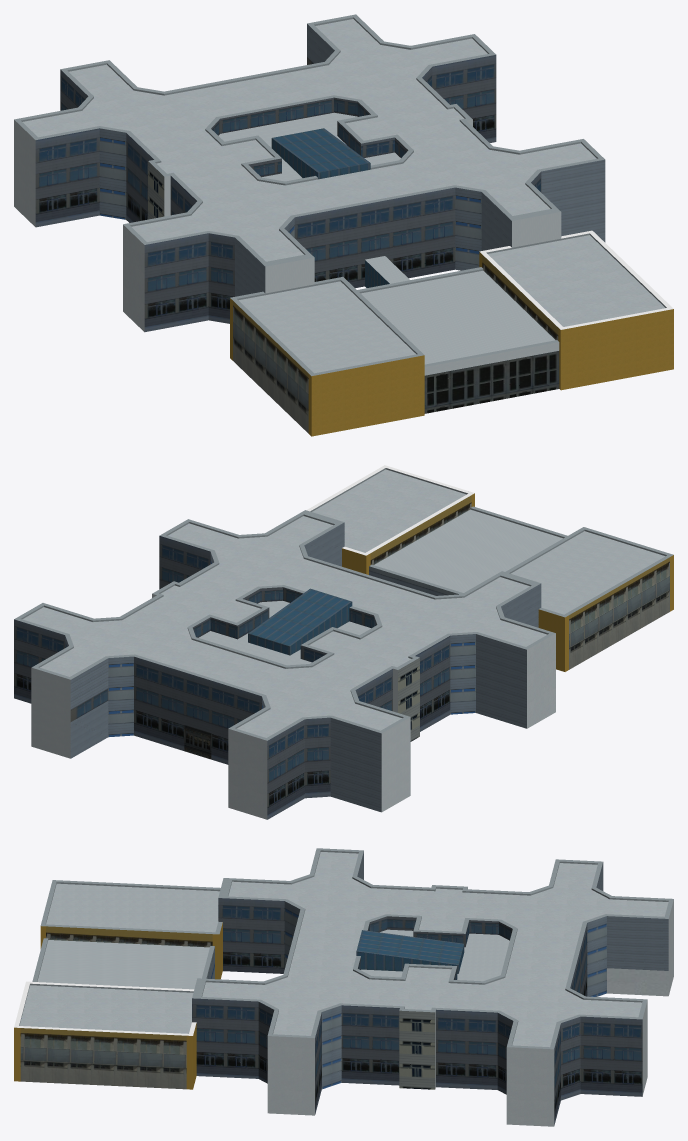
Rendered from grg15-gebaeude.glb.
3 renders of one model, top to bottom at view 1: azimuth 30°, elevation 25°; view 2: azimuth 150°, elevation 25°; view 3: azimuth 270°, elevation 25°, orthographic. The views are drawn at different scales.
Parts seen in each view (by area): view 1: mesh_7_ROOT_Layer0_194_202_205_ss, mesh_4_ROOT_Layer0_96_108_118_ss, mesh_2_ROOT_Layer0_190_162_85_ss, mesh_9_ROOT_Layer0_171_180_184_ss, mesh_0_ROOT_Layer0_208_216_218_ss, mesh_5_ROOT_Layer0_143_155_165_ss, mesh_13_ROOT_Layer0_142_141_125_ss, mesh_14_ROOT_Layer0_66_71_70_ss, mesh_6_ROOT_Layer0_136_151_162_ss, mesh_8_ROOT_Layer0_87_118_137_ss, mesh_1_ROOT_Layer0_255_255_255_ss, mesh_3_ROOT_Layer0_136_143_141_ss; view 2: mesh_7_ROOT_Layer0_194_202_205_ss, mesh_4_ROOT_Layer0_96_108_118_ss, mesh_5_ROOT_Layer0_143_155_165_ss, mesh_9_ROOT_Layer0_171_180_184_ss, mesh_0_ROOT_Layer0_208_216_218_ss, mesh_13_ROOT_Layer0_142_141_125_ss, mesh_6_ROOT_Layer0_136_151_162_ss, mesh_8_ROOT_Layer0_87_118_137_ss, mesh_2_ROOT_Layer0_190_162_85_ss, mesh_3_ROOT_Layer0_136_143_141_ss, mesh_1_ROOT_Layer0_255_255_255_ss, mesh_11_ROOT_Layer0_76_79_77_ss; view 3: mesh_7_ROOT_Layer0_194_202_205_ss, mesh_4_ROOT_Layer0_96_108_118_ss, mesh_13_ROOT_Layer0_142_141_125_ss, mesh_9_ROOT_Layer0_171_180_184_ss, mesh_0_ROOT_Layer0_208_216_218_ss, mesh_6_ROOT_Layer0_136_151_162_ss, mesh_5_ROOT_Layer0_143_155_165_ss, mesh_8_ROOT_Layer0_87_118_137_ss, mesh_3_ROOT_Layer0_136_143_141_ss, mesh_2_ROOT_Layer0_190_162_85_ss, mesh_1_ROOT_Layer0_255_255_255_ss.
Part boxes in pixels (<box>): mesh_7_ROOT_Layer0_194_202_205_ss: <box>22,19,665,373</box>; mesh_4_ROOT_Layer0_96_108_118_ss: <box>35,55,541,331</box>; mesh_2_ROOT_Layer0_190_162_85_ss: <box>230,252,673,436</box>; mesh_9_ROOT_Layer0_171_180_184_ss: <box>14,14,666,376</box>; mesh_0_ROOT_Layer0_208_216_218_ss: <box>14,119,561,375</box>; mesh_5_ROOT_Layer0_143_155_165_ss: <box>235,24,605,296</box>; mesh_13_ROOT_Layer0_142_141_125_ss: <box>233,255,558,433</box>; mesh_14_ROOT_Layer0_66_71_70_ss: <box>424,351,559,413</box>; mesh_6_ROOT_Layer0_136_151_162_ss: <box>99,128,481,270</box>; mesh_8_ROOT_Layer0_87_118_137_ss: <box>271,128,389,287</box>; mesh_1_ROOT_Layer0_255_255_255_ss: <box>479,230,673,329</box>; mesh_3_ROOT_Layer0_136_143_141_ss: <box>148,161,164,219</box>; mesh_7_ROOT_Layer0_194_202_205_ss: <box>22,469,665,737</box>; mesh_4_ROOT_Layer0_96_108_118_ss: <box>14,536,450,819</box>; mesh_5_ROOT_Layer0_143_155_165_ss: <box>70,522,541,812</box>; mesh_9_ROOT_Layer0_171_180_184_ss: <box>14,468,673,740</box>; mesh_0_ROOT_Layer0_208_216_218_ss: <box>31,594,555,819</box>; mesh_13_ROOT_Layer0_142_141_125_ss: <box>370,495,669,669</box>; mesh_6_ROOT_Layer0_136_151_162_ss: <box>108,552,475,737</box>; mesh_8_ROOT_Layer0_87_118_137_ss: <box>248,588,352,655</box>; mesh_2_ROOT_Layer0_190_162_85_ss: <box>342,493,673,671</box>; mesh_3_ROOT_Layer0_136_143_141_ss: <box>398,658,419,741</box>; mesh_1_ROOT_Layer0_255_255_255_ss: <box>306,465,474,555</box>; mesh_11_ROOT_Layer0_76_79_77_ss: <box>184,725,211,759</box>; mesh_7_ROOT_Layer0_194_202_205_ss: <box>19,852,668,1047</box>; mesh_4_ROOT_Layer0_96_108_118_ss: <box>192,898,642,1125</box>; mesh_13_ROOT_Layer0_142_141_125_ss: <box>20,926,212,1089</box>; mesh_9_ROOT_Layer0_171_180_184_ss: <box>19,848,673,1049</box>; mesh_0_ROOT_Layer0_208_216_218_ss: <box>267,888,673,1126</box>; mesh_6_ROOT_Layer0_136_151_162_ss: <box>206,901,606,1089</box>; mesh_5_ROOT_Layer0_143_155_165_ss: <box>357,851,668,970</box>; mesh_8_ROOT_Layer0_87_118_137_ss: <box>356,930,464,973</box>; mesh_3_ROOT_Layer0_136_143_141_ss: <box>399,1010,435,1089</box>; mesh_2_ROOT_Layer0_190_162_85_ss: <box>14,922,222,1089</box>; mesh_1_ROOT_Layer0_255_255_255_ss: <box>14,981,196,1035</box>.
Bounding box in the file's own units: 72.41 × 13.75 × 100.
15 materials, 13 textured.
